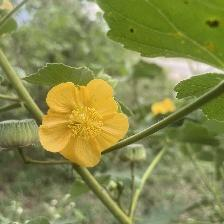indian mallow: (39, 80, 130, 171)
